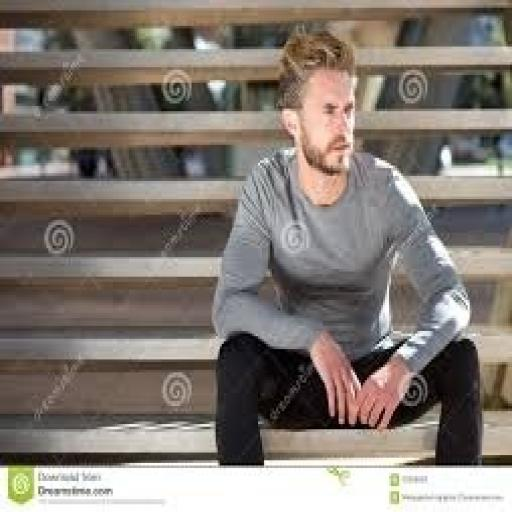sitting: (208, 26, 484, 465)
